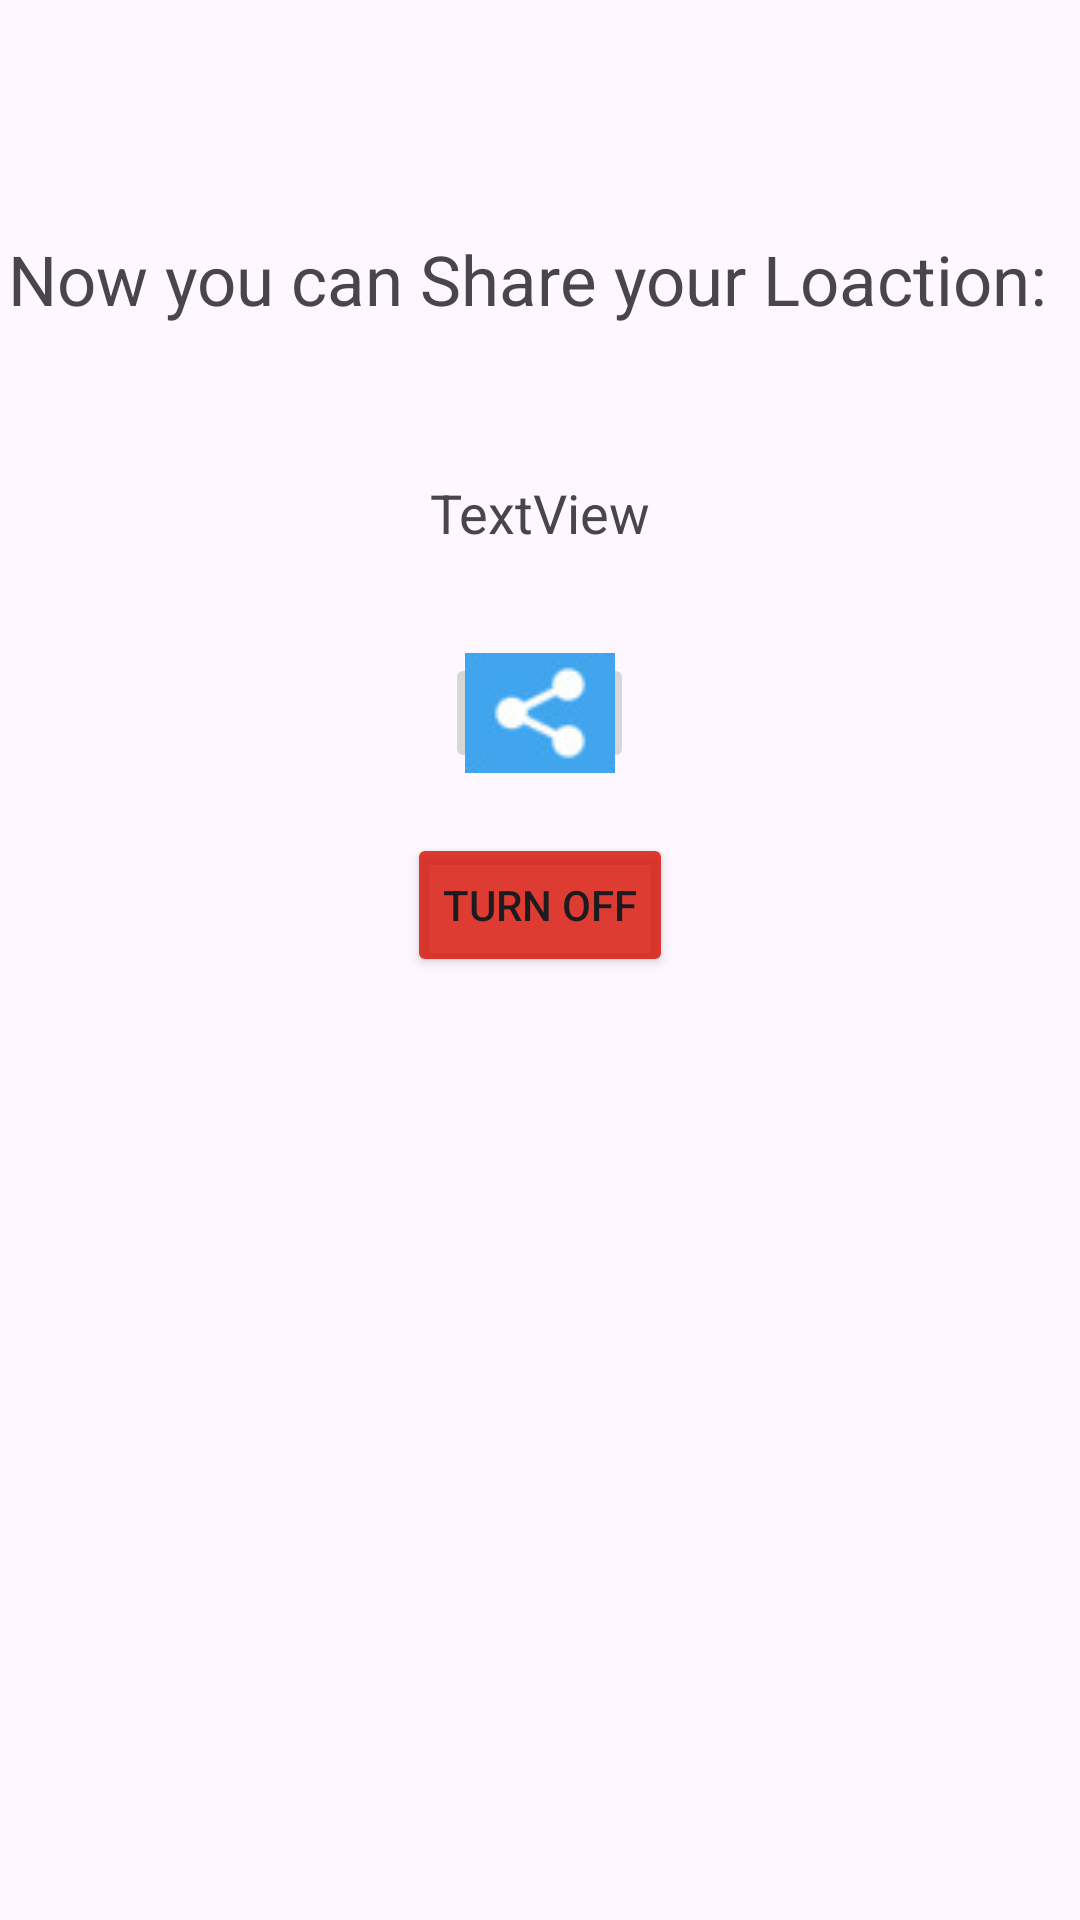

Named icons in this screenshot (1080w x 1920h) and their bounding boxes, region(x1, y1, x2, y2):
share: region(457, 653, 622, 773)
